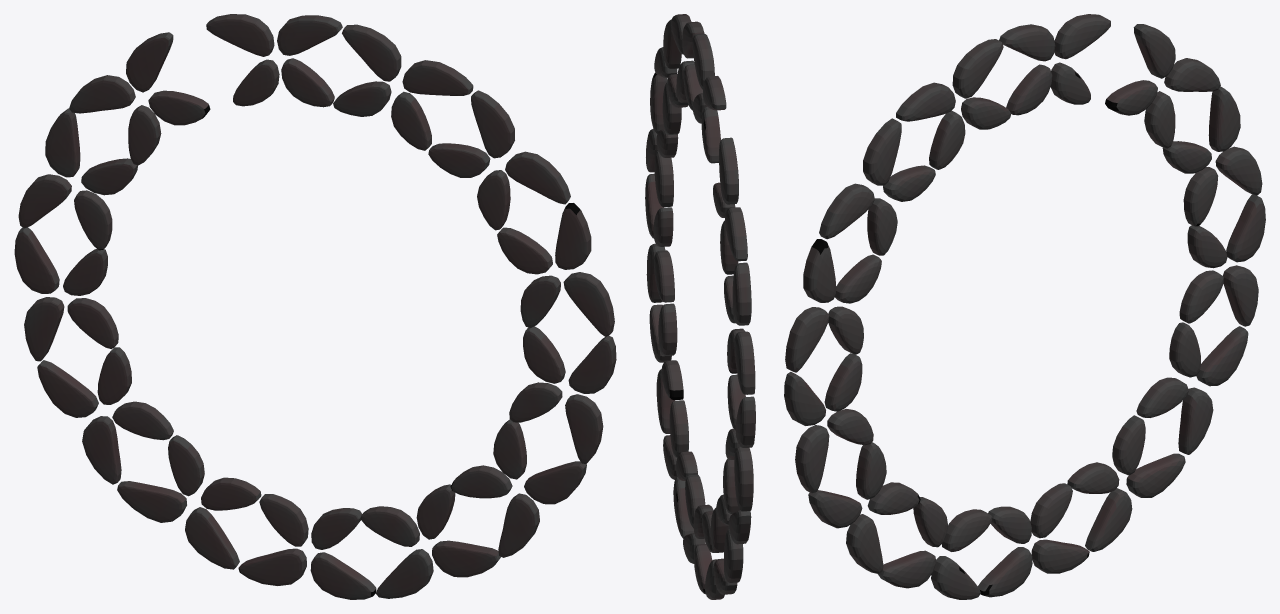
3 views of the same model, side by side, from view 1: azimuth 30°, elevation 25°; view 2: azimuth 150°, elevation 25°; view 3: azimuth 270°, elevation 25° (orthographic). The views are drawn at different scales.
Visible parts, largest first — view 1: Cube.047; view 2: Cube.047; view 3: Cube.047.
Boxes of the visible parts, box(x1,y1,x2,y2) form: Cube.047: box(14, 14, 616, 599); Cube.047: box(645, 14, 755, 599); Cube.047: box(784, 14, 1265, 599).
Size of the model in its own units: 0.8802 by 1.35 by 1.06.
1 material, 1 textured.
